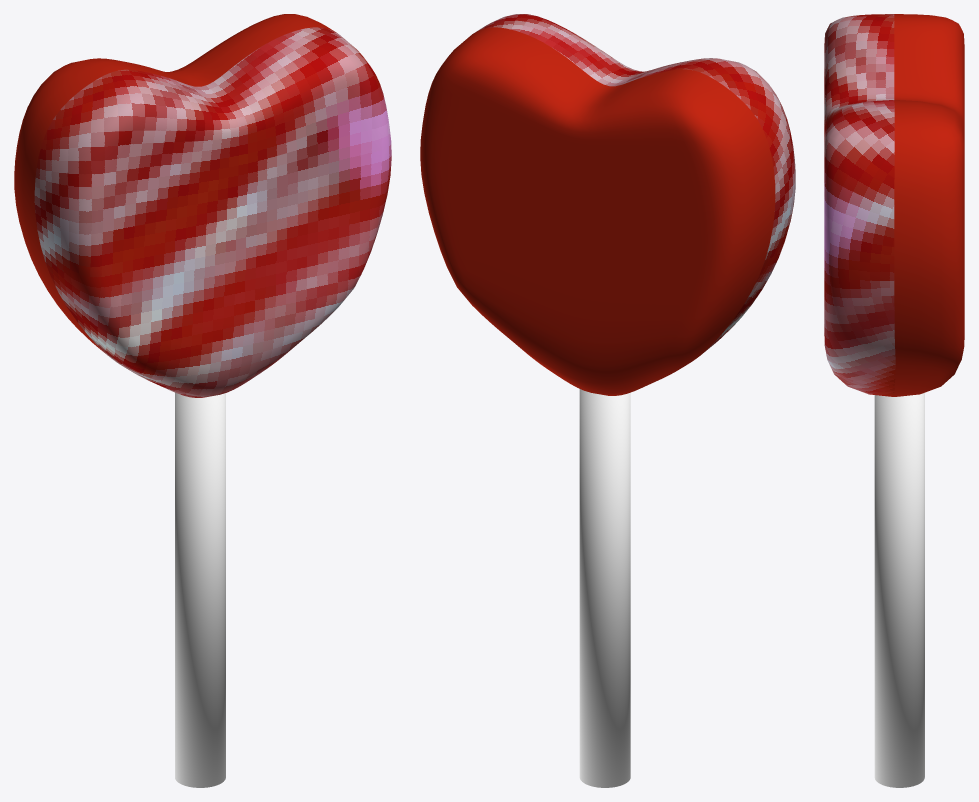
The model's file is AL_PaletitaCorazon_Static.fbx.
3 views of the same model, side by side, from view 1: azimuth 30°, elevation 25°; view 2: azimuth 150°, elevation 25°; view 3: azimuth 270°, elevation 25° (orthographic).
Parts seen in each view (by area): view 1: Cylinder; view 2: Cylinder; view 3: Cylinder.
Part boxes in pixels (x1,y1,x2,y2): Cylinder: (14, 14, 391, 787); Cylinder: (420, 14, 795, 787); Cylinder: (824, 14, 964, 787).
Size of the model in its own units: 0.0558 by 0.3139 by 0.1513.
